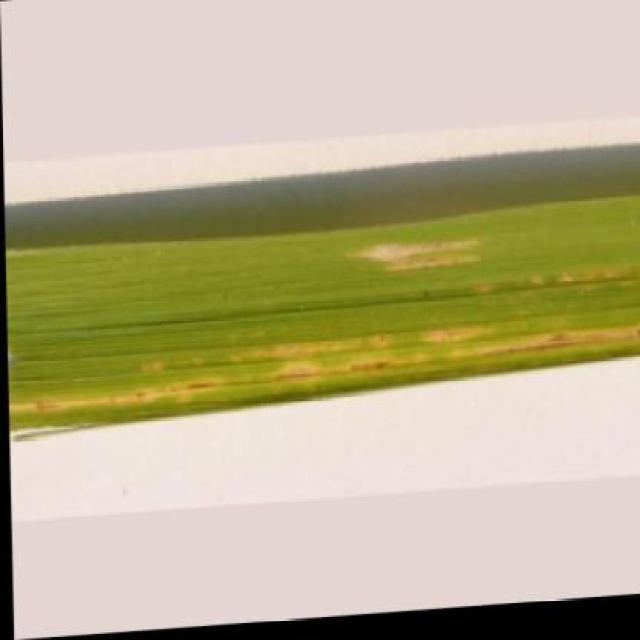Brown_Spot: (3, 199, 640, 443)
